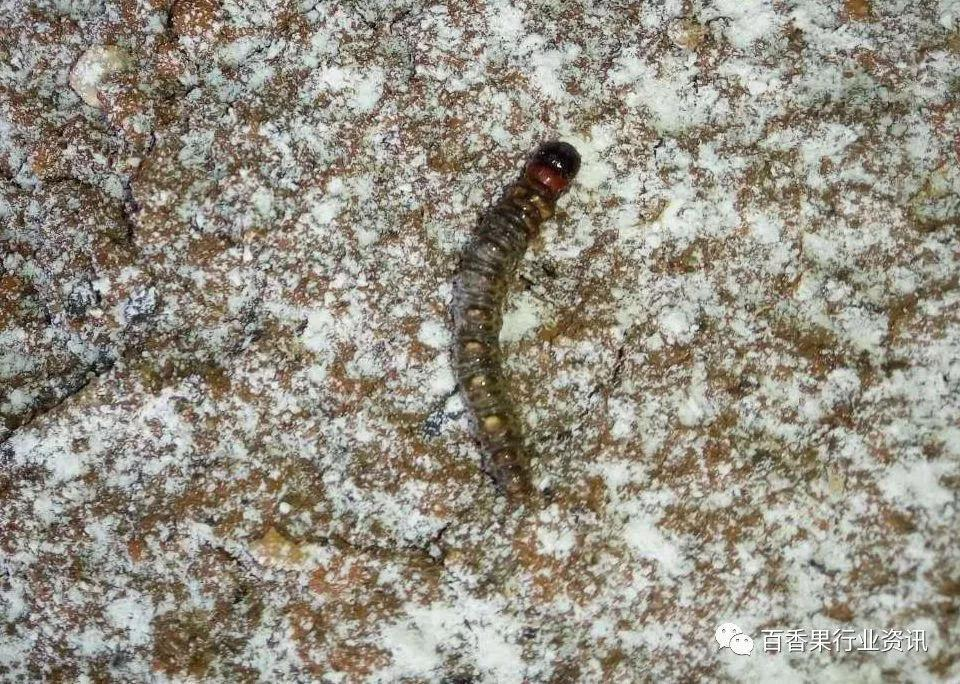caterpillars: (359, 103, 691, 532)
